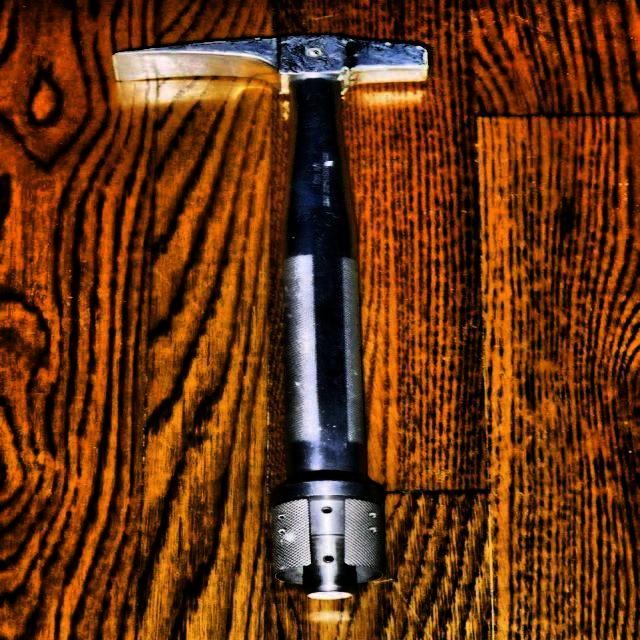hammer: (112, 31, 430, 475)
